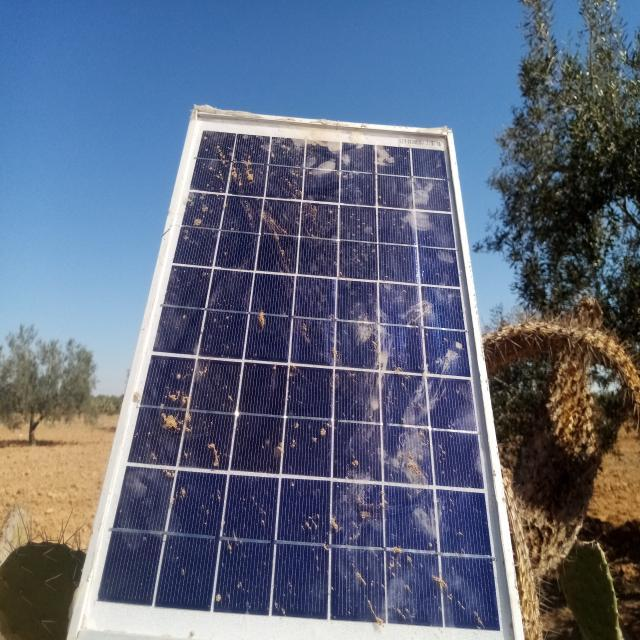faulty: (72, 111, 520, 638)
